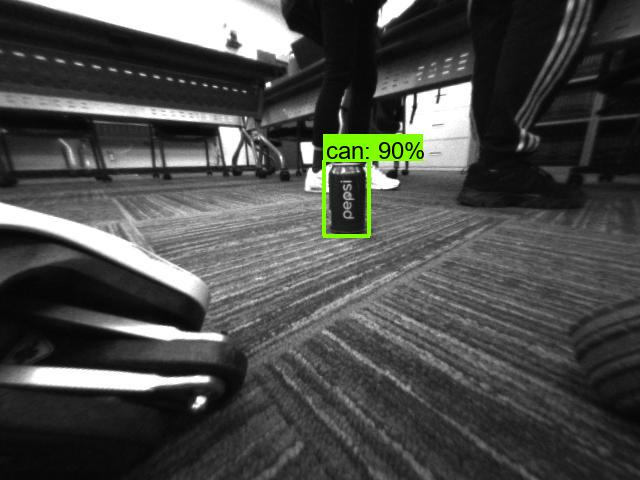can: (327, 160, 368, 240)
